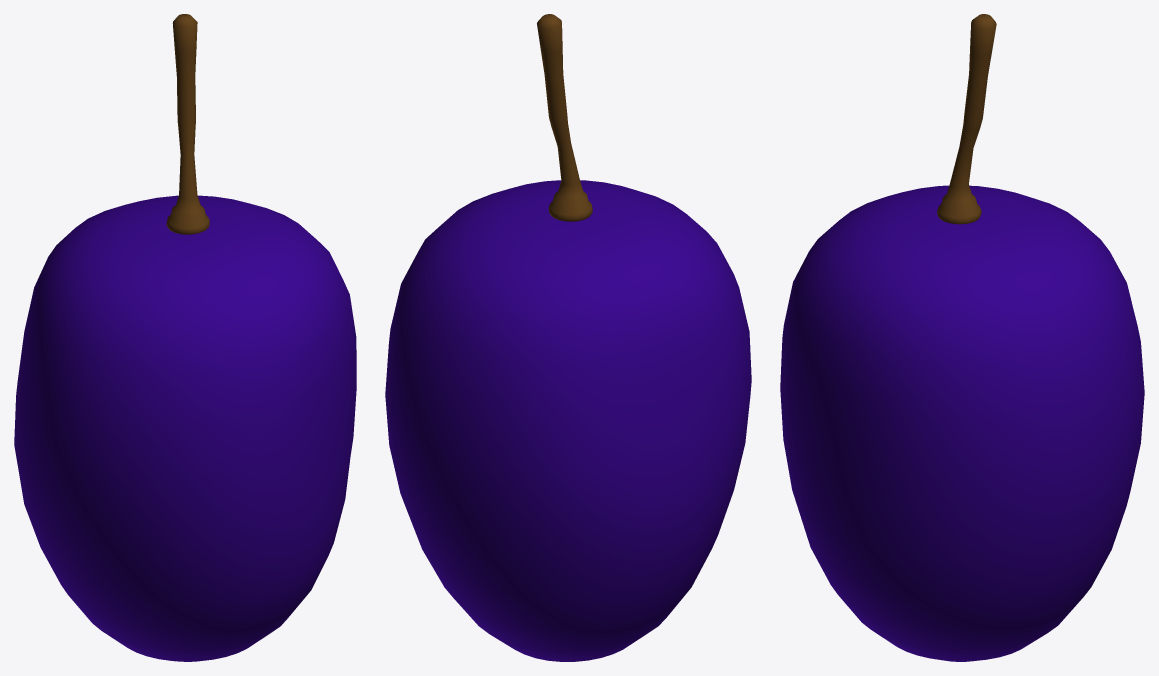
File: grape.fbx
3 renders of one model, left to right at view 1: azimuth 30°, elevation 25°; view 2: azimuth 150°, elevation 25°; view 3: azimuth 270°, elevation 25°, orthographic. The views are drawn at different scales.
Parts seen in each view (by area): view 1: Sphere; view 2: Sphere; view 3: Sphere.
Part boxes in pixels (left/top/right/bottom): Sphere: left=14, top=14, right=356, bottom=661; Sphere: left=385, top=14, right=751, bottom=661; Sphere: left=780, top=14, right=1144, bottom=661.
Size of the model in its own units: 125 by 245 by 127.
